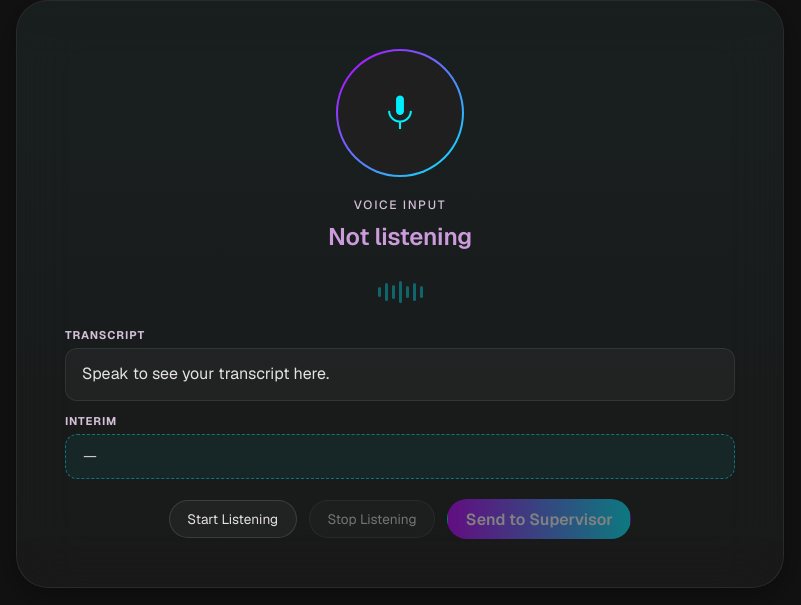
Test: SpeechPanel › clears transcript after a successful Supervisor submit
The width and height of the screenshot is (801, 605).
Click the button with test id "start-listening".
click(233, 519)  # box [169,500,297,538]
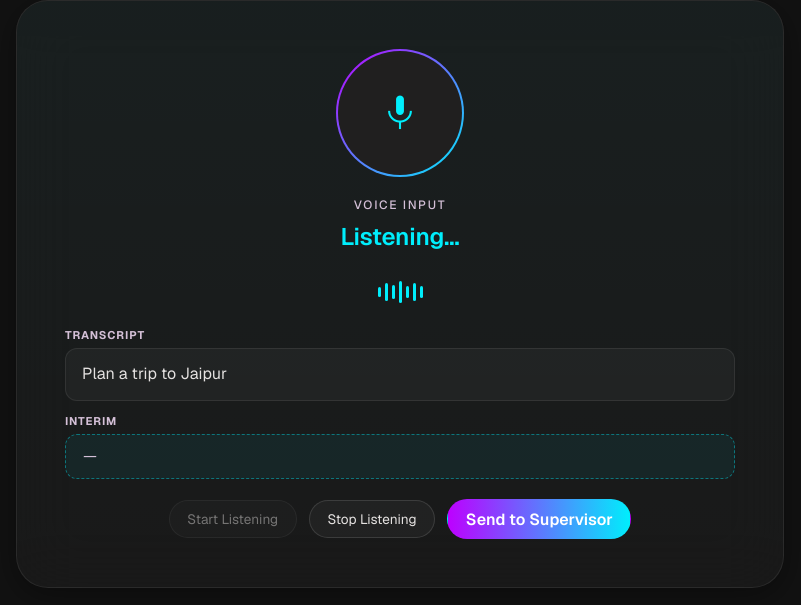
Click the button with test id "send-transcript".
click(539, 519)  # box [447,499,631,539]
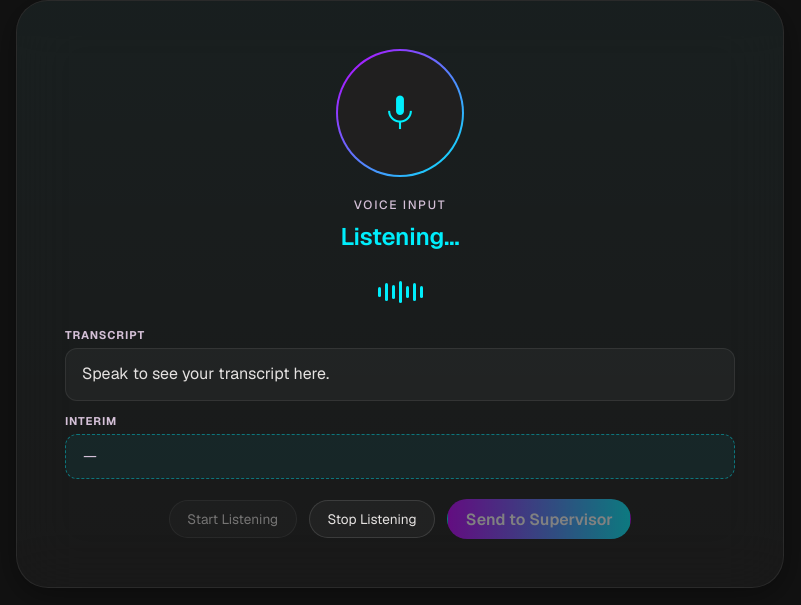
Check: the text with test id "final-transcript" reads "Speak to see your transcript here.", box [82,363,329,384]
